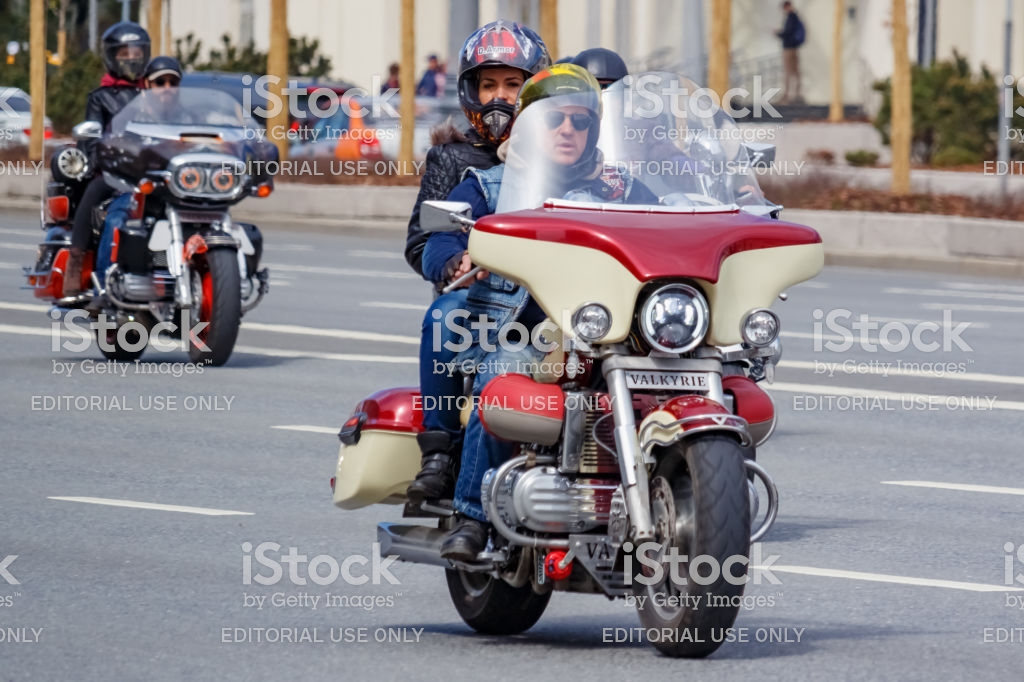helmet: (450, 16, 542, 119), (530, 43, 607, 124), (102, 23, 149, 74)
